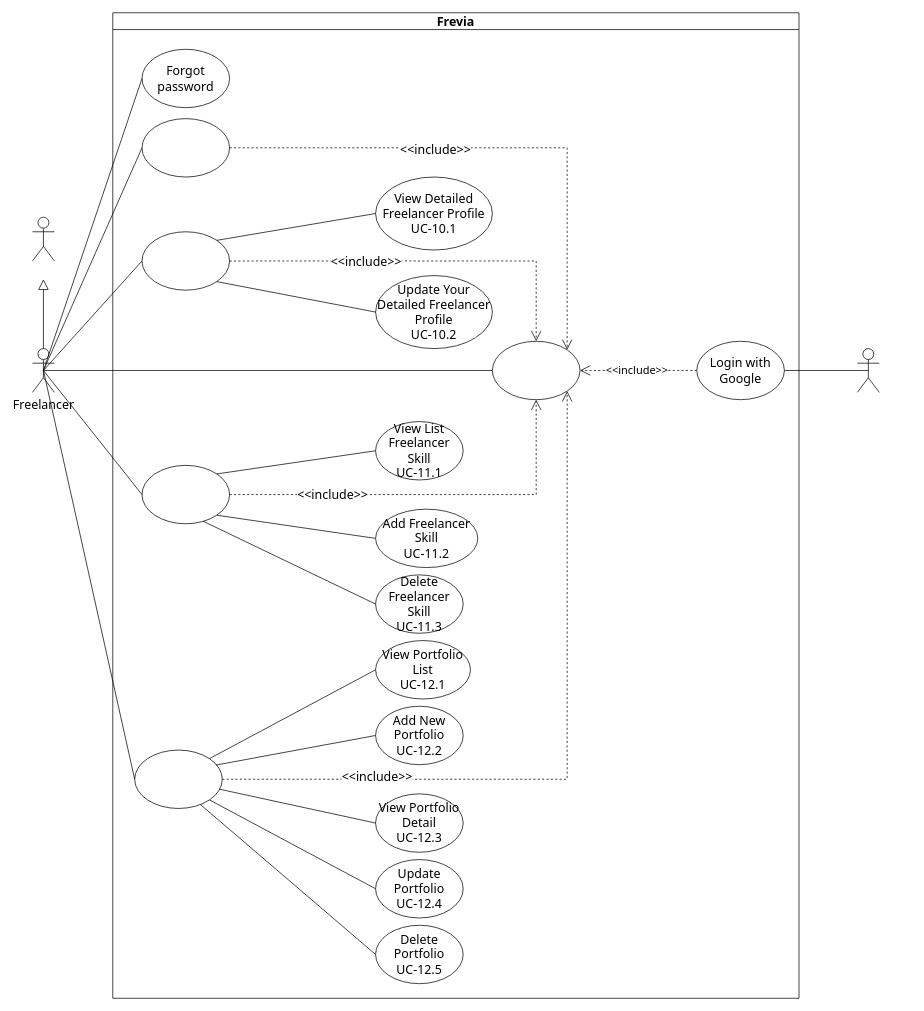
This 924x1011 diagram has some shape labels left out. Each missing label, with the centre of its shape:
Google Service: the point at 868,370
Guest: the point at 43,238
Login: the point at 536,370
Logout: the point at 185,147
Manage Portfolio UC-12: the point at 178,778
Manage Profile UC-10: the point at 185,260
Manage Skills UC-11: the point at 185,494
